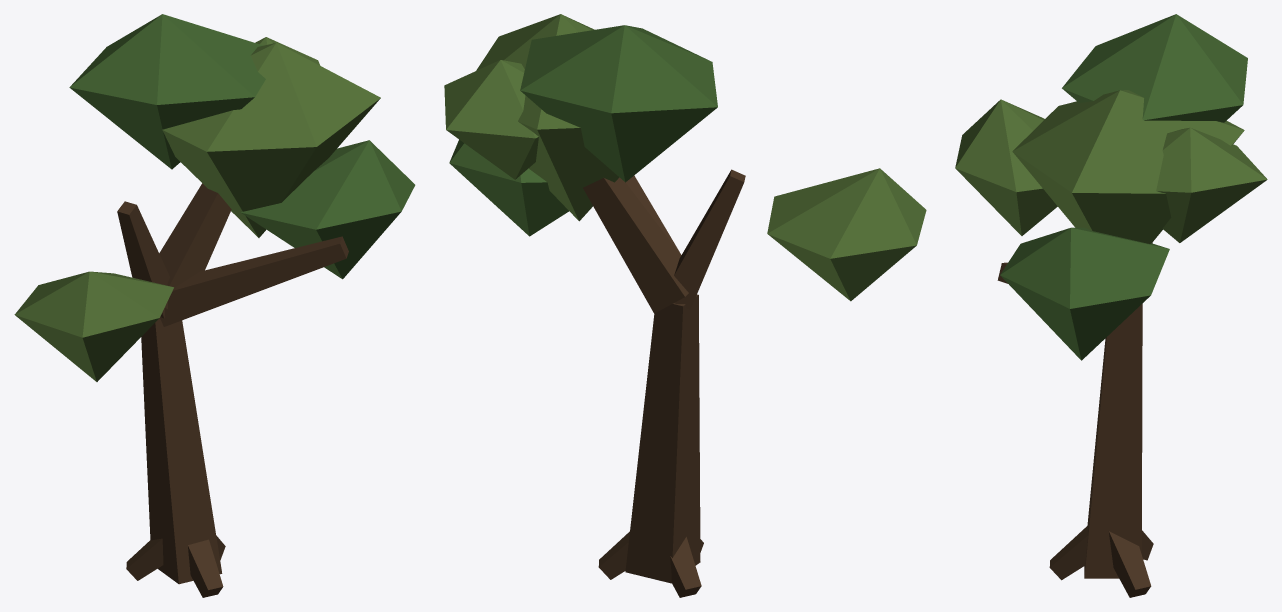
File: tree_broad_b.glb
3 renders of one model, left to right at view 1: azimuth 30°, elevation 25°; view 2: azimuth 150°, elevation 25°; view 3: azimuth 270°, elevation 25°, orthographic. The views are drawn at different scales.
Visible parts, largest first — view 1: crown, crown.002, bole, crown.001, crown.004, fork.002, fork, fork.001, root.002, root.001; view 2: crown.002, bole, crown.004, crown, crown.003, fork, crown.001, fork.001, root.001, root; view 3: crown, crown.001, crown.002, bole, crown.003, crown.004, root, root.002.
Part boxes in pixels (x1=…): crown: x1=162, y1=42, x2=380, y2=237; crown.002: x1=69, y1=14, x2=265, y2=169; bole: x1=141, y1=318, x2=222, y2=584; crown.001: x1=241, y1=140, x2=415, y2=279; crown.004: x1=14, y1=271, x2=173, y2=381; fork.002: x1=160, y1=236, x2=348, y2=326; fork: x1=159, y1=183, x2=231, y2=308; fork.001: x1=117, y1=201, x2=169, y2=318; root.002: x1=188, y1=539, x2=223, y2=597; root.001: x1=126, y1=538, x2=163, y2=580; crown.002: x1=520, y1=25, x2=717, y2=182; bole: x1=625, y1=294, x2=700, y2=583; crown.004: x1=767, y1=168, x2=926, y2=301; crown: x1=476, y1=14, x2=619, y2=221; crown.003: x1=444, y1=60, x2=538, y2=179; fork: x1=583, y1=177, x2=688, y2=313; crown.001: x1=449, y1=139, x2=568, y2=236; fork.001: x1=674, y1=169, x2=745, y2=309; root.001: x1=670, y1=537, x2=701, y2=597; root: x1=598, y1=531, x2=629, y2=579; crown: x1=1012, y1=90, x2=1244, y2=243; crown.001: x1=1000, y1=227, x2=1169, y2=360; crown.002: x1=1062, y1=14, x2=1247, y2=122; bole: x1=1084, y1=304, x2=1142, y2=578; crown.003: x1=1156, y1=127, x2=1267, y2=242; crown.004: x1=955, y1=99, x2=1057, y2=235; root: x1=1108, y1=531, x2=1151, y2=597; root.002: x1=1049, y1=525, x2=1088, y2=580.
Bounding box in the file's own units: 71.3 × 88.98 × 44.54.
